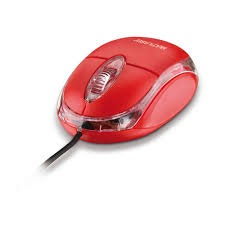mouse: (40, 27, 205, 167)
